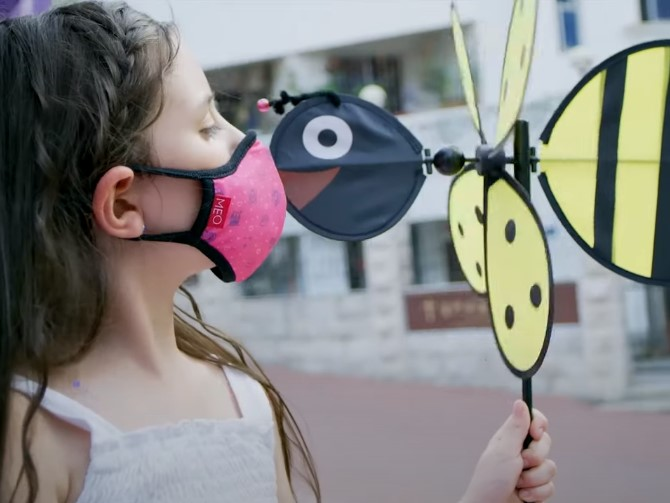face_with_mask: (13, 6, 287, 285)
